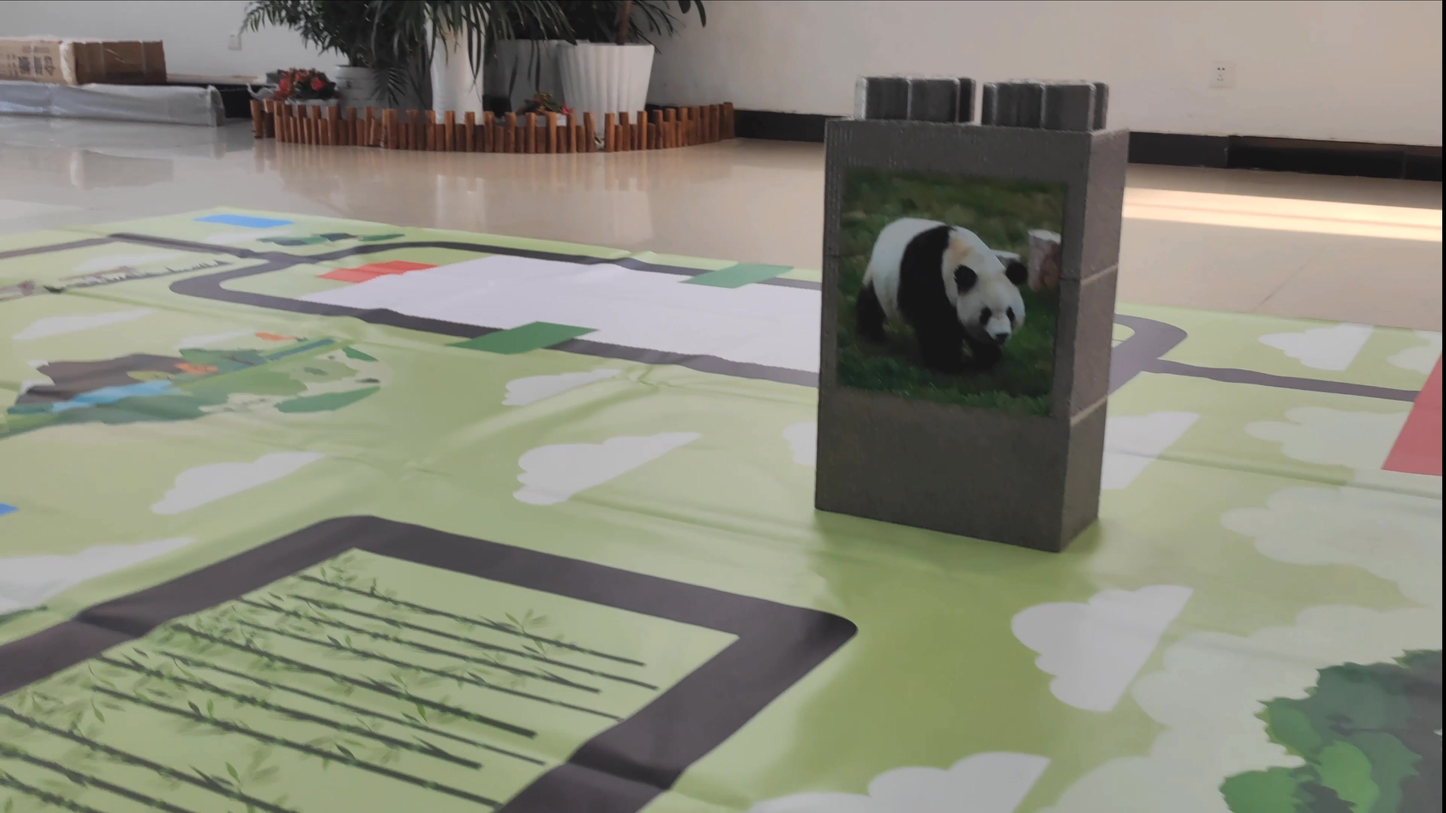panda: (842, 178, 1065, 391)
